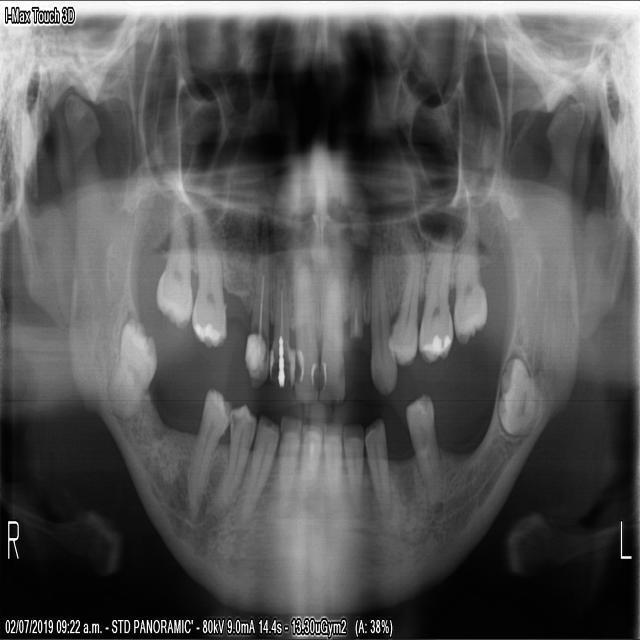LCD: (365, 415, 393, 519)
LID: (342, 415, 364, 521), (322, 419, 347, 505)
LIU: (319, 224, 347, 408)
LMU: (452, 202, 492, 351), (417, 215, 455, 368)
LPMD: (404, 391, 447, 508)
LPMU: (367, 226, 397, 396), (392, 226, 425, 371)
RCD: (236, 407, 280, 524)
RCU: (244, 210, 270, 385)
RID: (273, 413, 303, 508), (296, 415, 323, 494)
RIU: (289, 208, 321, 404), (269, 218, 291, 391)
RMD: (108, 308, 160, 421)
RMU: (189, 180, 227, 351), (152, 174, 193, 332)
RPMD: (182, 385, 232, 519), (213, 399, 256, 515)
